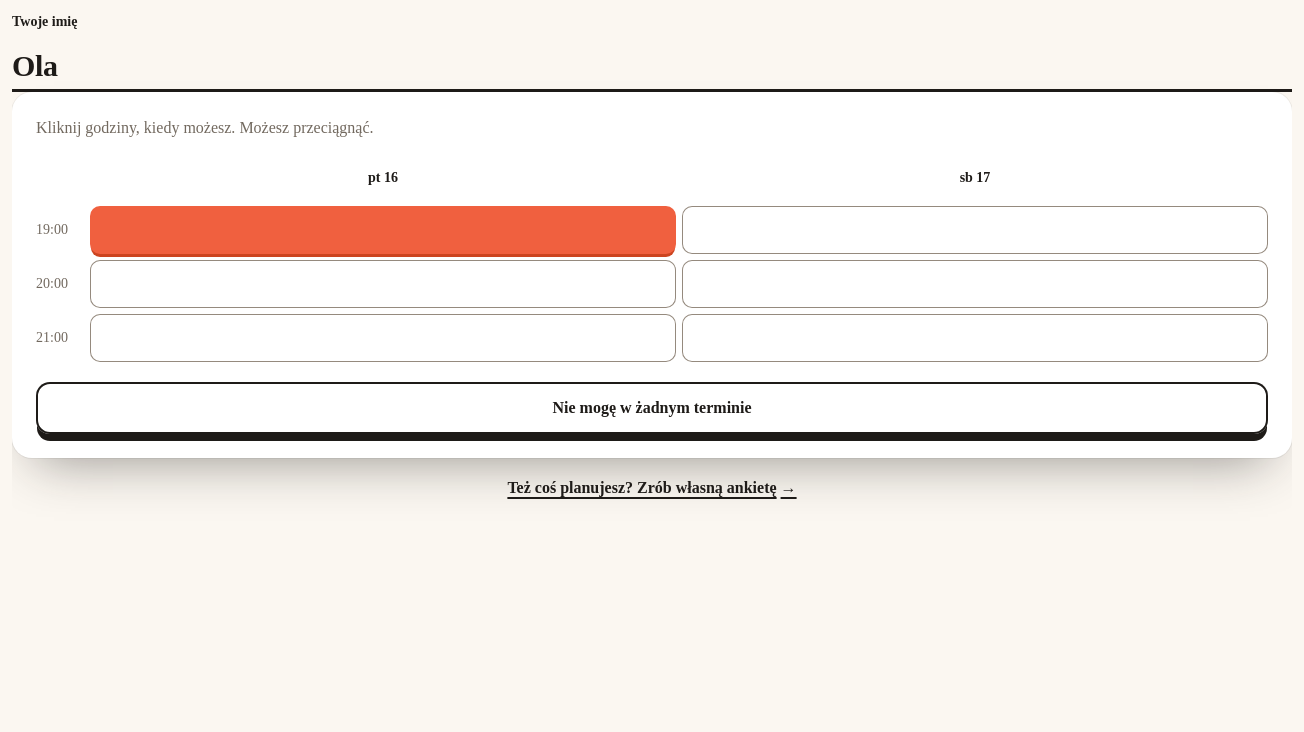
the Moje lead and body › painting an hour leaves Nie mogę and its Cofnij
The image size is (1304, 732).
Click the button "Nie mogę w żadnym terminie". click: (652, 408)
box: [36,382,1268,434]
Wait 500 ms
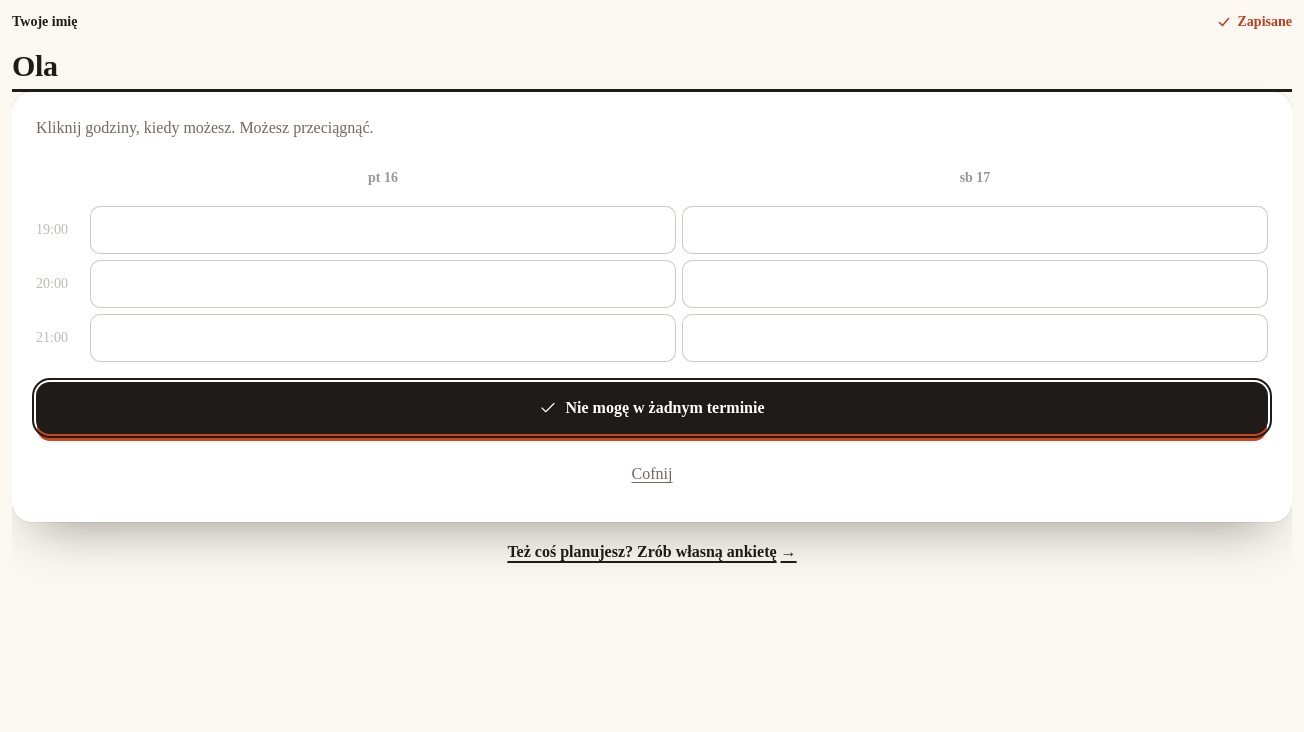
Click the button named "sb 17, 21:00". click: (975, 338)
box: [682,314,1268,362]
Wait 500 ms
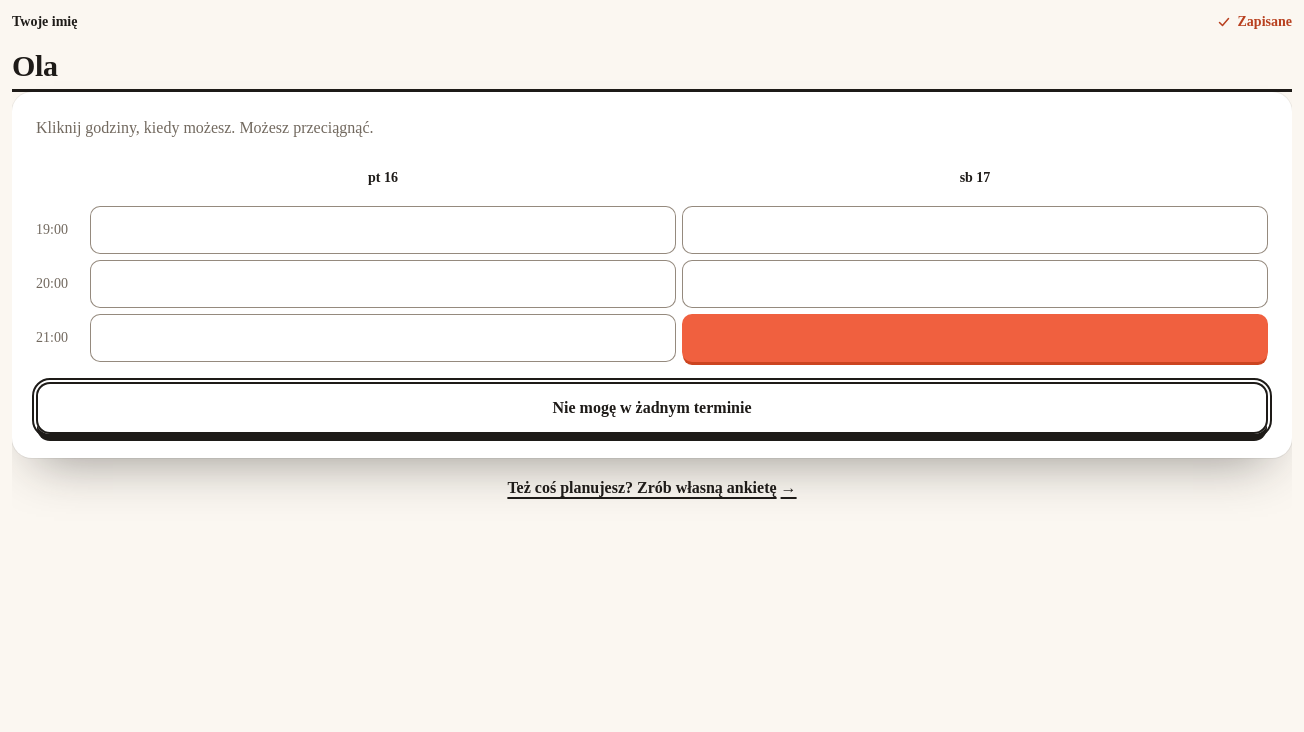
Check: the button "Cofnij" is gone
